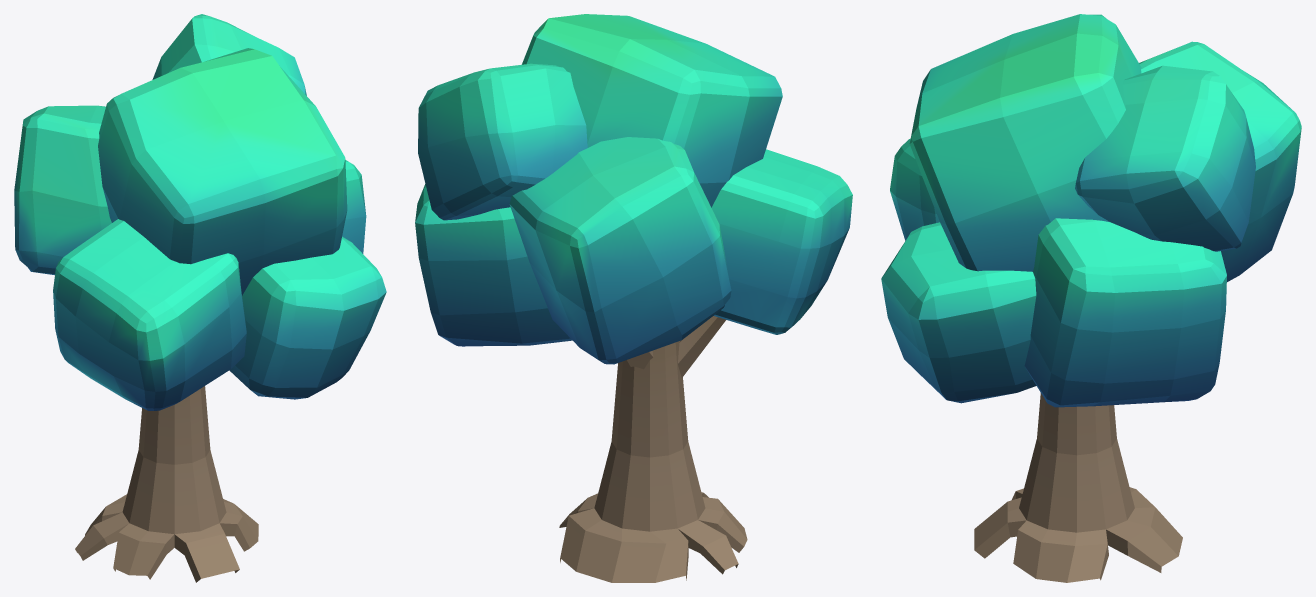
The model's file is Tree_Cube_Summer.fbx.
3 views of the same model, side by side, from view 1: azimuth 30°, elevation 25°; view 2: azimuth 150°, elevation 25°; view 3: azimuth 270°, elevation 25° (orthographic). The views are drawn at different scales.
Visible parts, largest first — view 1: Tree_Cube_Summer; view 2: Tree_Cube_Summer; view 3: Tree_Cube_Summer.
Part boxes in pixels (box(x1,y1,x2,y2)): Tree_Cube_Summer: box(14, 14, 386, 582); Tree_Cube_Summer: box(415, 14, 852, 582); Tree_Cube_Summer: box(881, 14, 1301, 582).
Bounding box in the file's own units: 270 × 367 × 267.
